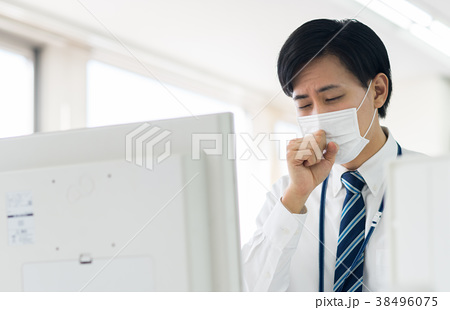mask: (295, 115, 370, 164)
